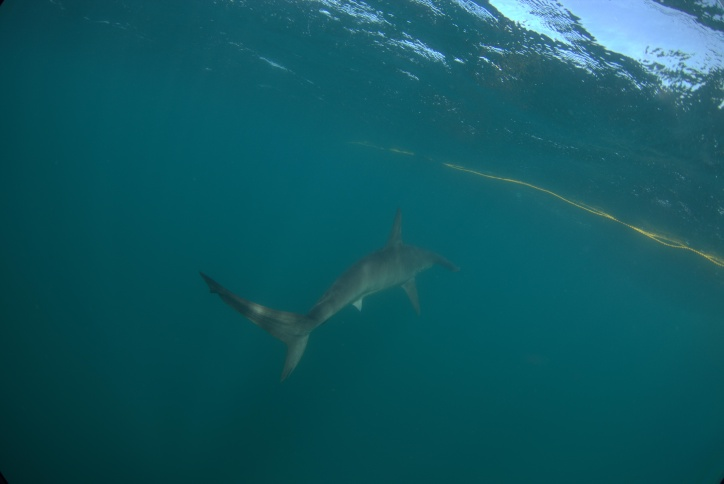Hammer: (182, 190, 470, 380)
